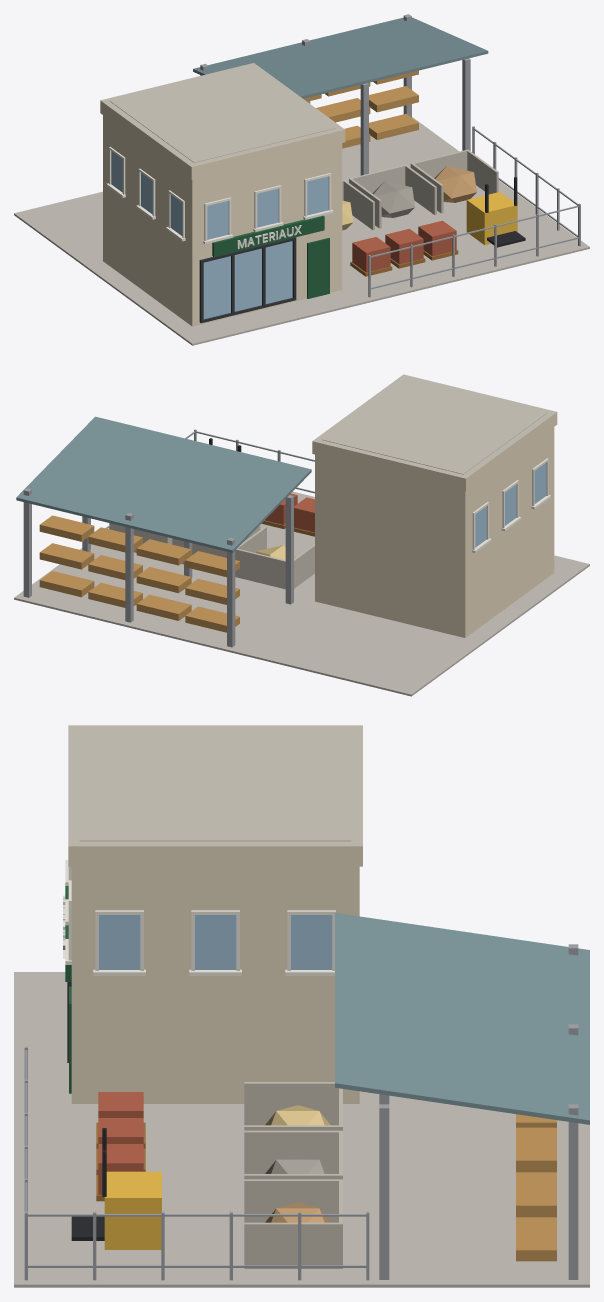
File: Sanayi_depo_insaat_Hafif.fbx
3 views of the same model, one above another, from view 1: azimuth 30°, elevation 25°; view 2: azimuth 150°, elevation 25°; view 3: azimuth 270°, elevation 25° (orthographic). The views are drawn at different scales.
Visible parts, largest first — view 1: Sanayi_depo_insaat_Hafif; view 2: Sanayi_depo_insaat_Hafif; view 3: Sanayi_depo_insaat_Hafif.
Part boxes in pixels (<box>): Sanayi_depo_insaat_Hafif: <box>14,14,589,345</box>; Sanayi_depo_insaat_Hafif: <box>14,374,589,696</box>; Sanayi_depo_insaat_Hafif: <box>14,725,589,1287</box>.
Size of the model in its own units: 18 by 7.39 by 14.
